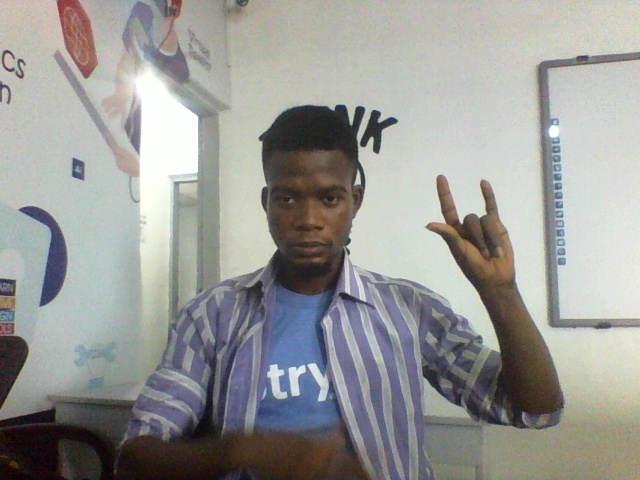i_love_you: (421, 173, 530, 292)
